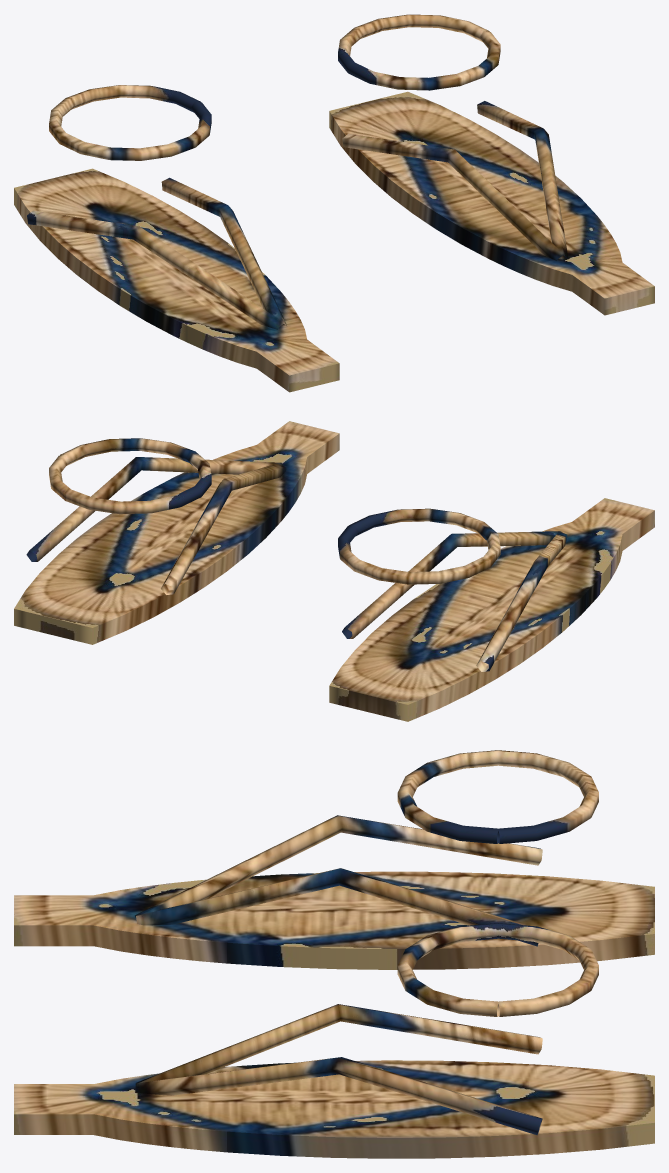
The model's file is waraji.glb.
3 views of the same model, one above another, from view 1: azimuth 30°, elevation 25°; view 2: azimuth 150°, elevation 25°; view 3: azimuth 270°, elevation 25° (orthographic). The views are drawn at different scales.
Parts seen in each view (by area): view 1: RightFoot, LeftFoot, LeftToeBase, RightToeBase; view 2: LeftFoot, RightFoot, RightToeBase, LeftToeBase; view 3: LeftFoot, RightFoot, LeftToeBase, RightToeBase.
Boxes of the visible parts, x1,y1,x2,y2 form: RightFoot: (14,85,287,335); LeftFoot: (329,14,596,260); LeftToeBase: (489,216,654,315); RightToeBase: (173,292,339,392); LeftFoot: (14,438,287,644); RightFoot: (329,508,597,721); RightToeBase: (499,498,654,597); LeftToeBase: (174,421,339,520); LeftFoot: (135,923,654,1158); RightFoot: (135,750,654,969); LeftToeBase: (14,1066,226,1152); RightToeBase: (14,879,226,963).
Size of the model in its own units: 0.3141 by 0.0788 by 0.307.
2 materials, 2 textured.
